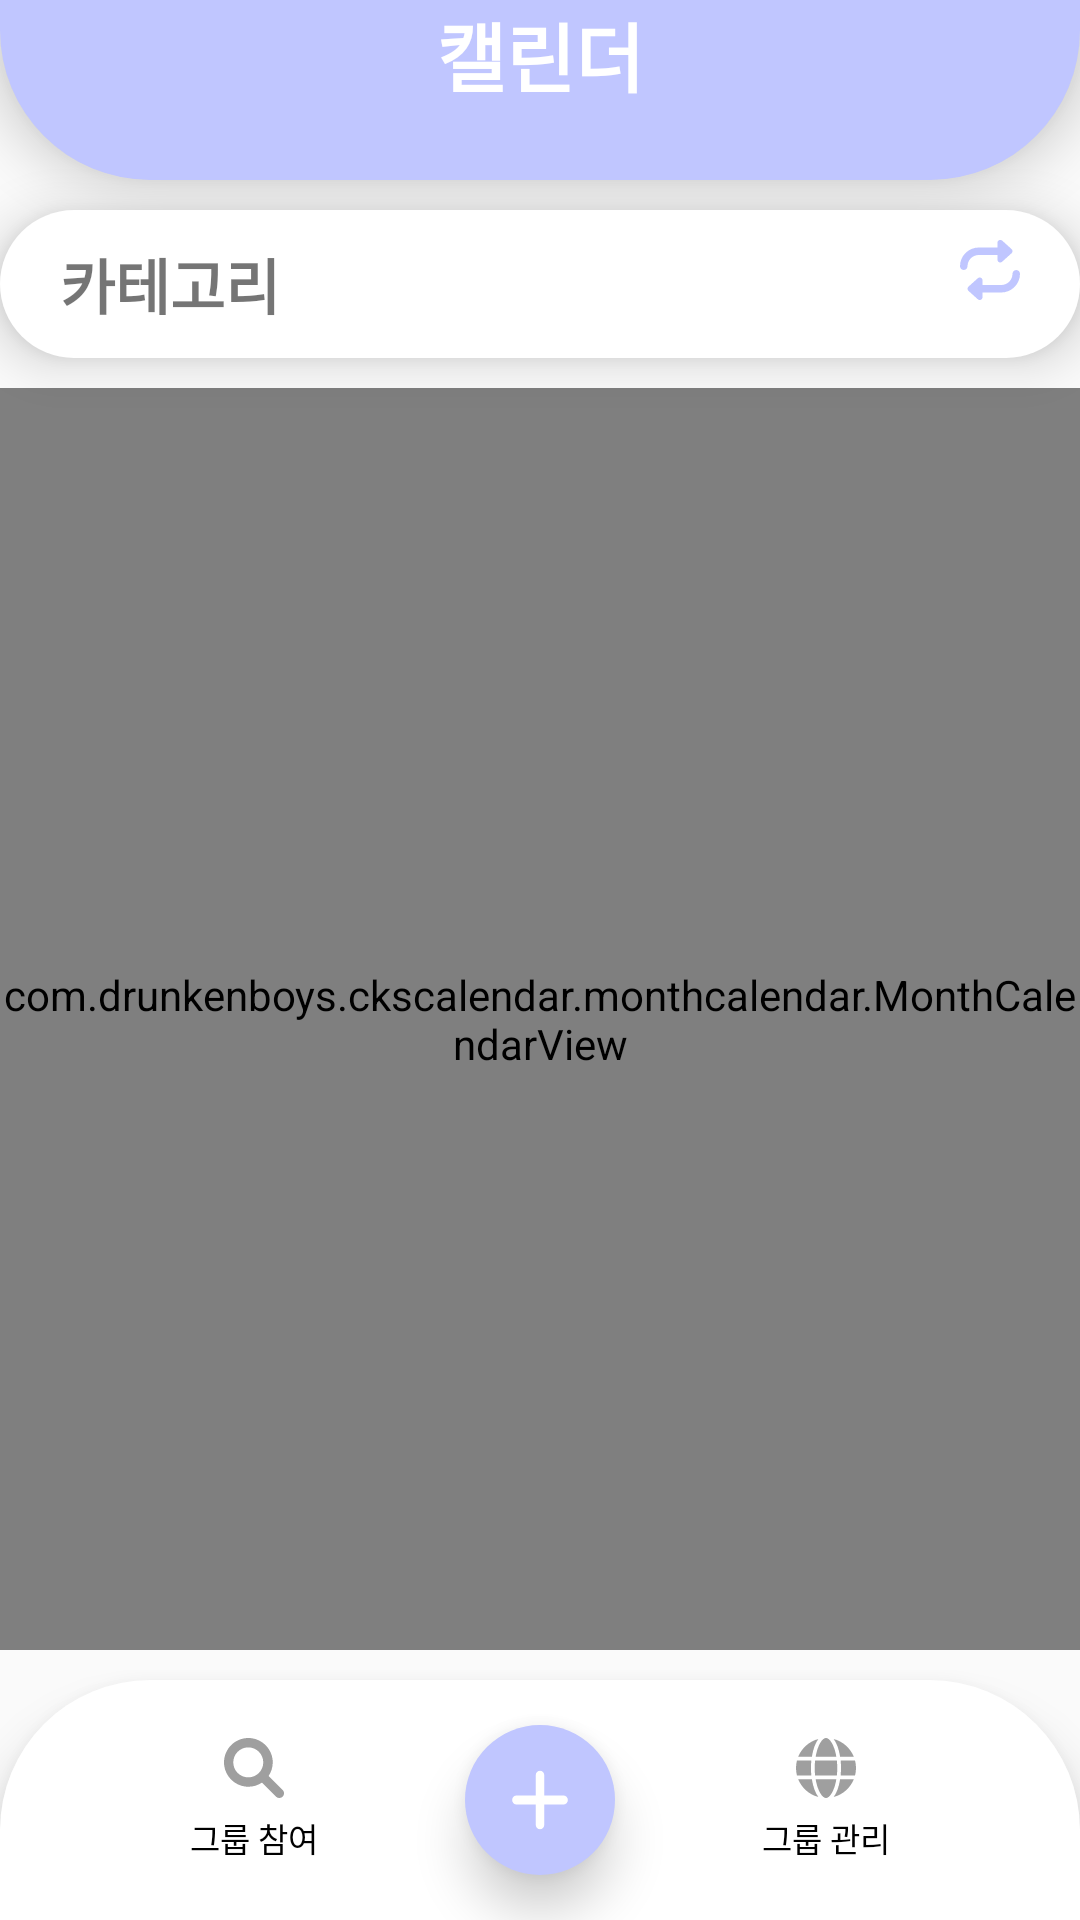

Screen size 1080 x 1920. Icon name, then its center in pixels as (x,y):
globe: (826,1768)
magnifying glass: (254,1768)
plus: (540,1800)
repeat: (990,270)
